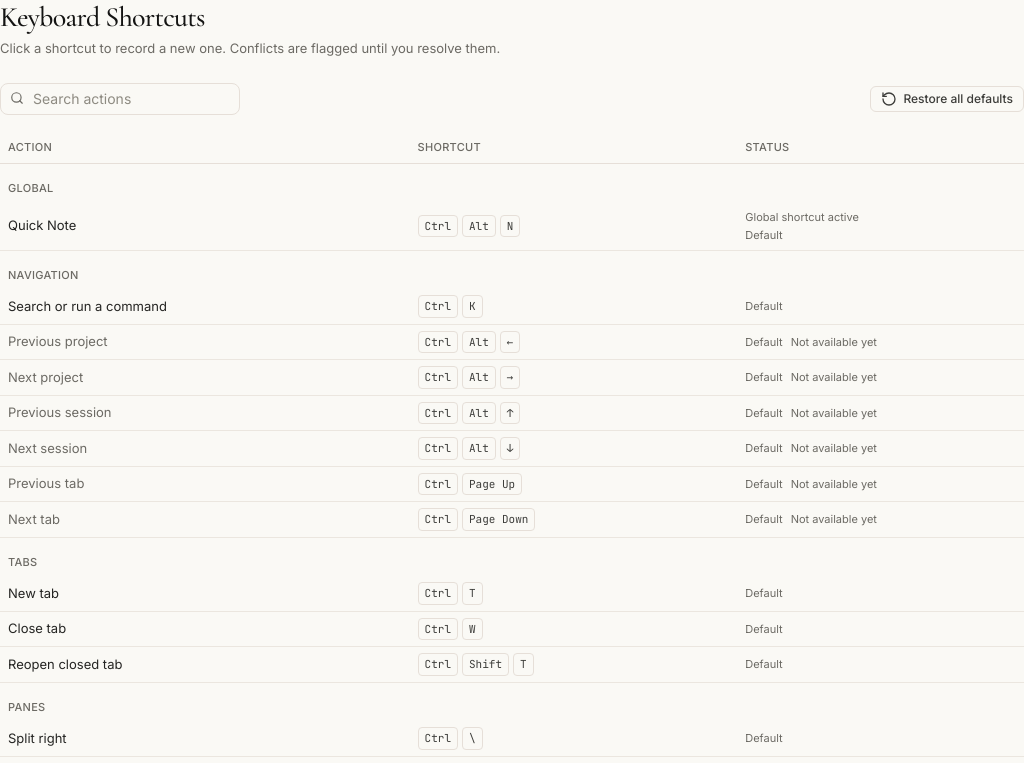
it: retains a saved global chord when native registration is unavailable
The width and height of the screenshot is (1024, 763).
Check: the button with aria-label "Change shortcut for New tab" is enabled, box [418,582,483,604]
Step 1. Click the button with aria-label "Change shortcut for Quick Note" → (469, 226), box [418,215,520,237]
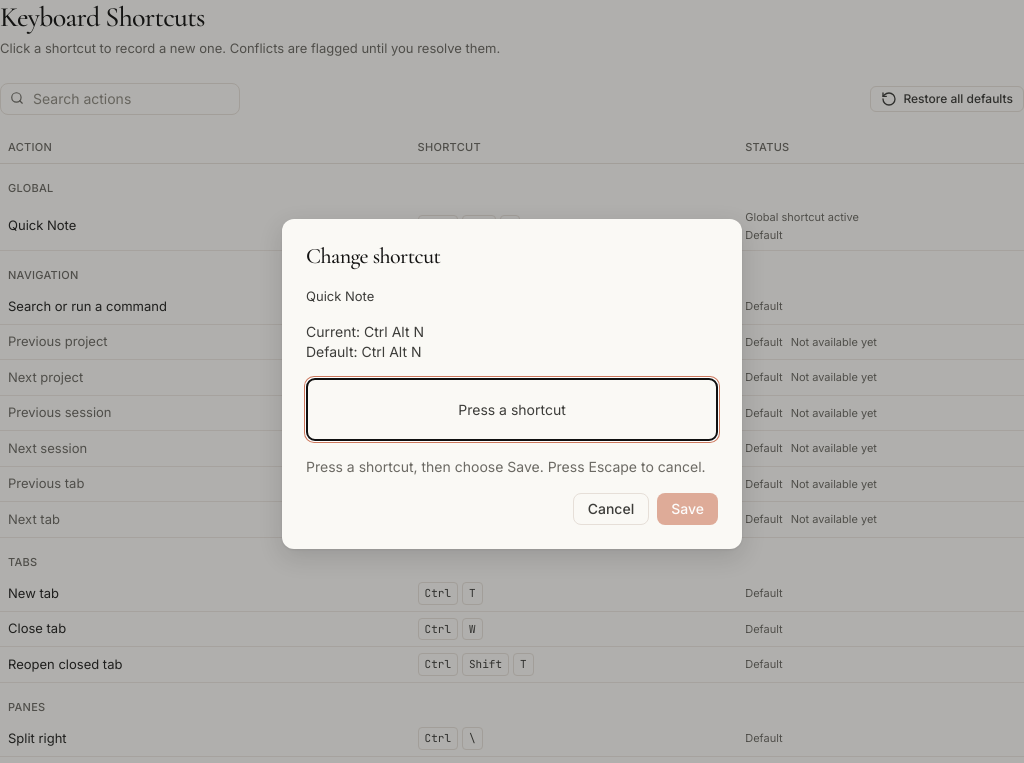
Step 2. Press KeyY in the button "Press a shortcut", box [306,378,718,441]
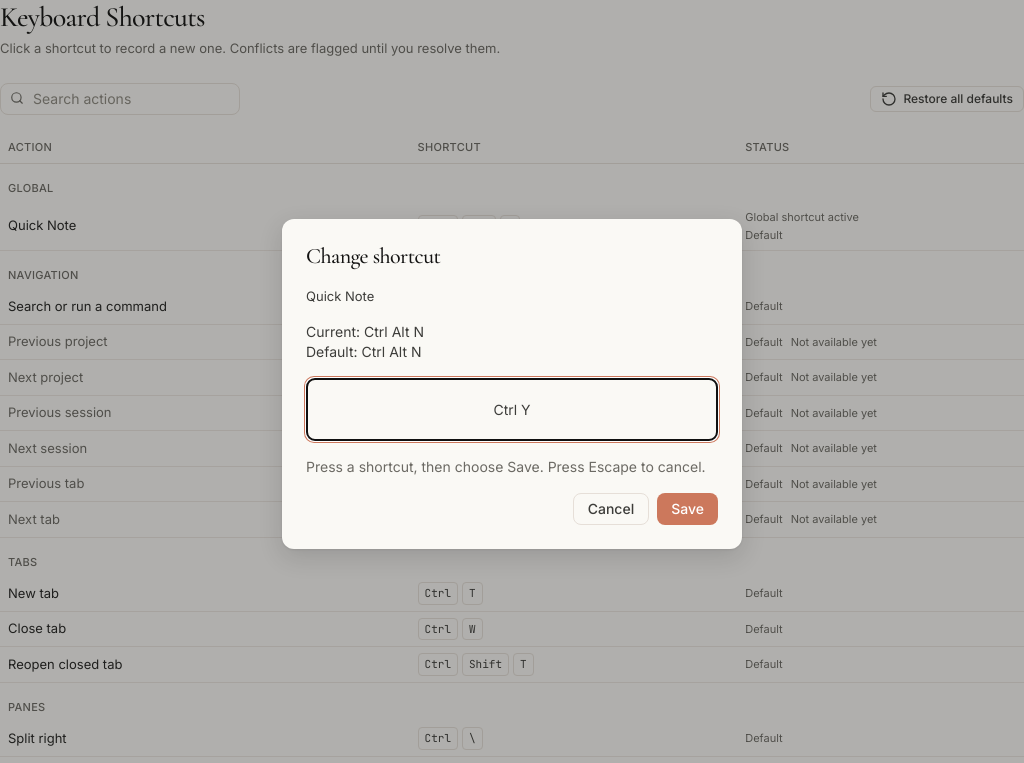
Step 3. Click the button "Save" → (688, 509), box [657,493,718,525]
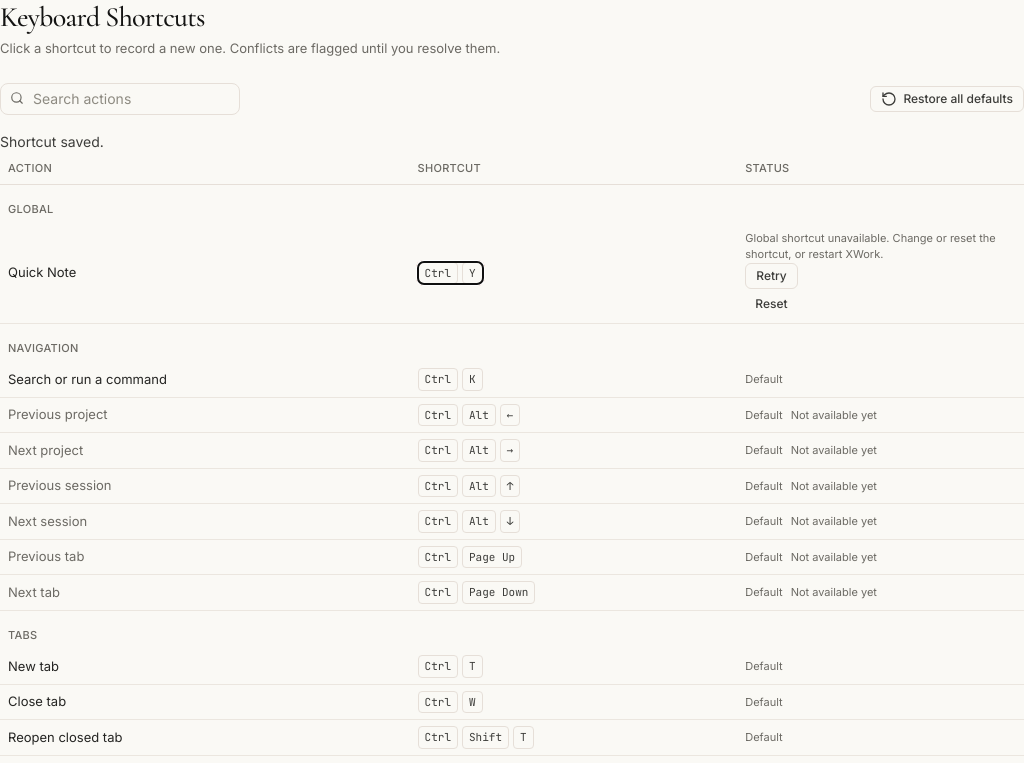
Check: the button with aria-label "Reset shortcut for Quick Note" is enabled, box [745,290,798,316]
Check: the text "Global shortcut unavailable. Change or reset the shortcut, or restart XWork." is shown, box [745,230,1016,262]
Check: the button with aria-label "Change shortcut for Quick Note" reads "Ctrl Y", box [418,262,483,284]
